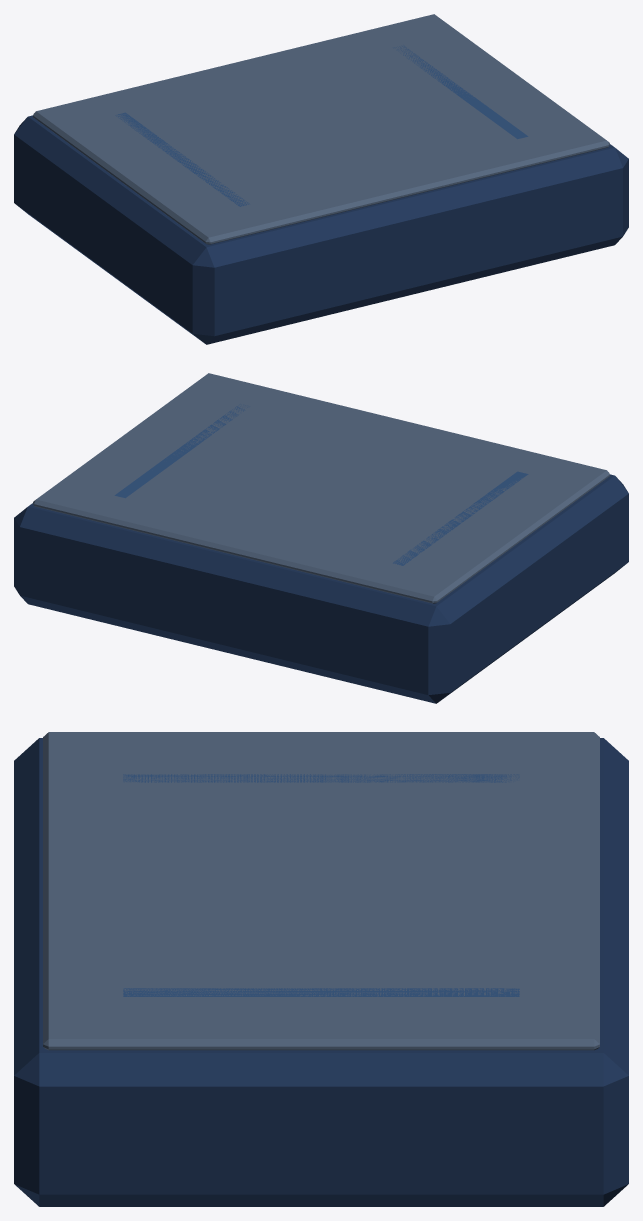
The model's file is clerk_dais.glb.
3 views of the same model, one above another, from view 1: azimuth 30°, elevation 25°; view 2: azimuth 150°, elevation 25°; view 3: azimuth 270°, elevation 25° (orthographic). The views are drawn at different scales.
Parts seen in each view (by area): view 1: DaisBody; view 2: DaisBody; view 3: DaisBody.
Part boxes in pixels (x1,y1,x2,y2): DaisBody: (14,14,628,344); DaisBody: (14,373,628,703); DaisBody: (14,732,628,1206).
Size of the model in its own units: 1.1 by 0.25 by 0.85.
